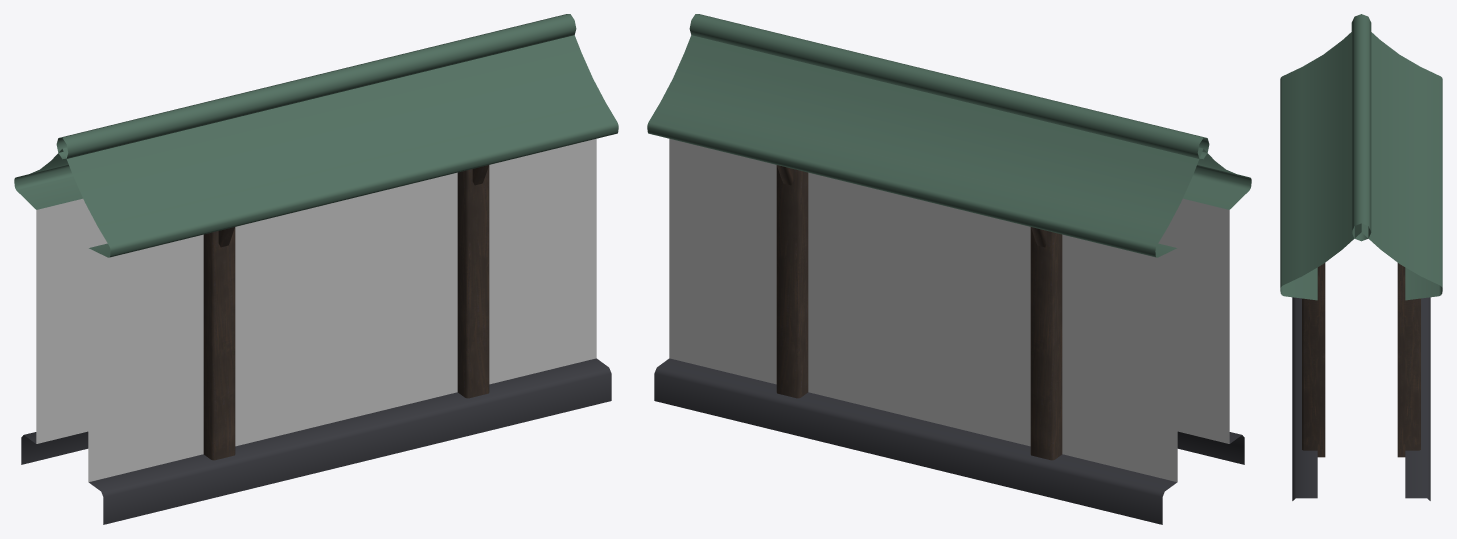
The model's file is Wall_Straight.fbx.
3 views of the same model, side by side, from view 1: azimuth 30°, elevation 25°; view 2: azimuth 150°, elevation 25°; view 3: azimuth 270°, elevation 25° (orthographic). The views are drawn at different scales.
Parts seen in each view (by area): view 1: Wall_Straight.004; view 2: Wall_Straight.004; view 3: Wall_Straight.004.
Part boxes in pixels (<box>): Wall_Straight.004: <box>14,14,618,524</box>; Wall_Straight.004: <box>647,14,1251,524</box>; Wall_Straight.004: <box>1280,14,1442,500</box>.
Bounding box in the file's own units: 4 × 2.69 × 1.31.
